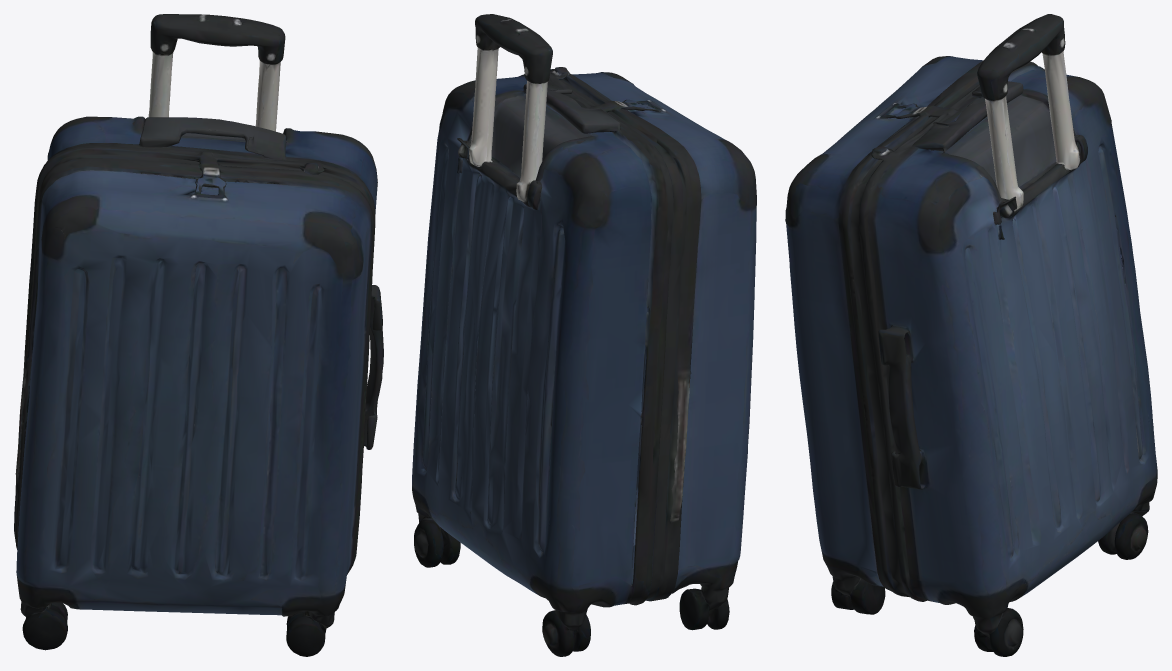
3 views of the same model, side by side, from view 1: azimuth 30°, elevation 25°; view 2: azimuth 150°, elevation 25°; view 3: azimuth 270°, elevation 25° (orthographic).
Size of the model in its own units: 0.5399 by 0.8981 by 0.5263.
1 material, 1 textured.
